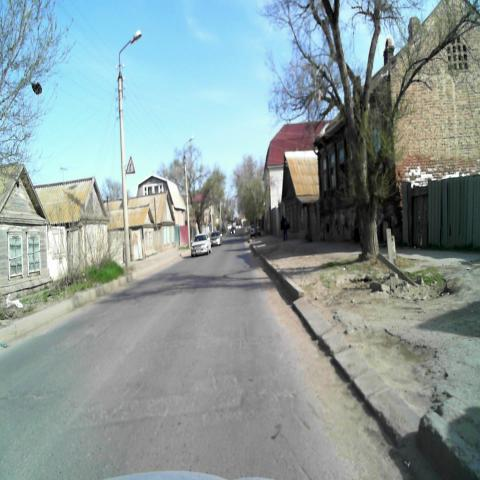1_11: (124, 154, 136, 174)
